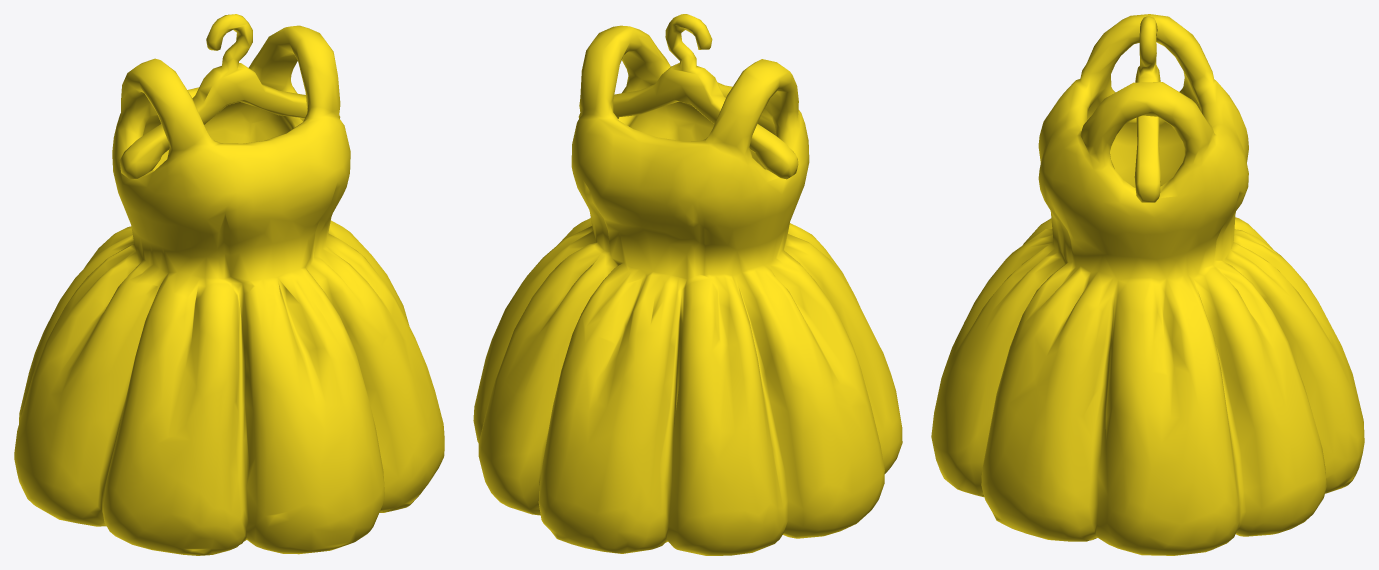
The model's file is Cloth_Dress.glb.
3 views of the same model, side by side, from view 1: azimuth 30°, elevation 25°; view 2: azimuth 150°, elevation 25°; view 3: azimuth 270°, elevation 25° (orthographic).
Visible parts, largest first — view 1: 衣服_洋裝; view 2: 衣服_洋裝; view 3: 衣服_洋裝.
Boxes of the visible parts, x1,y1,x2,y2 form: 衣服_洋裝: (14, 14, 444, 555); 衣服_洋裝: (473, 14, 902, 555); 衣服_洋裝: (931, 14, 1364, 555).
Size of the model in its own units: 0.0406 by 0.0467 by 0.0404.
